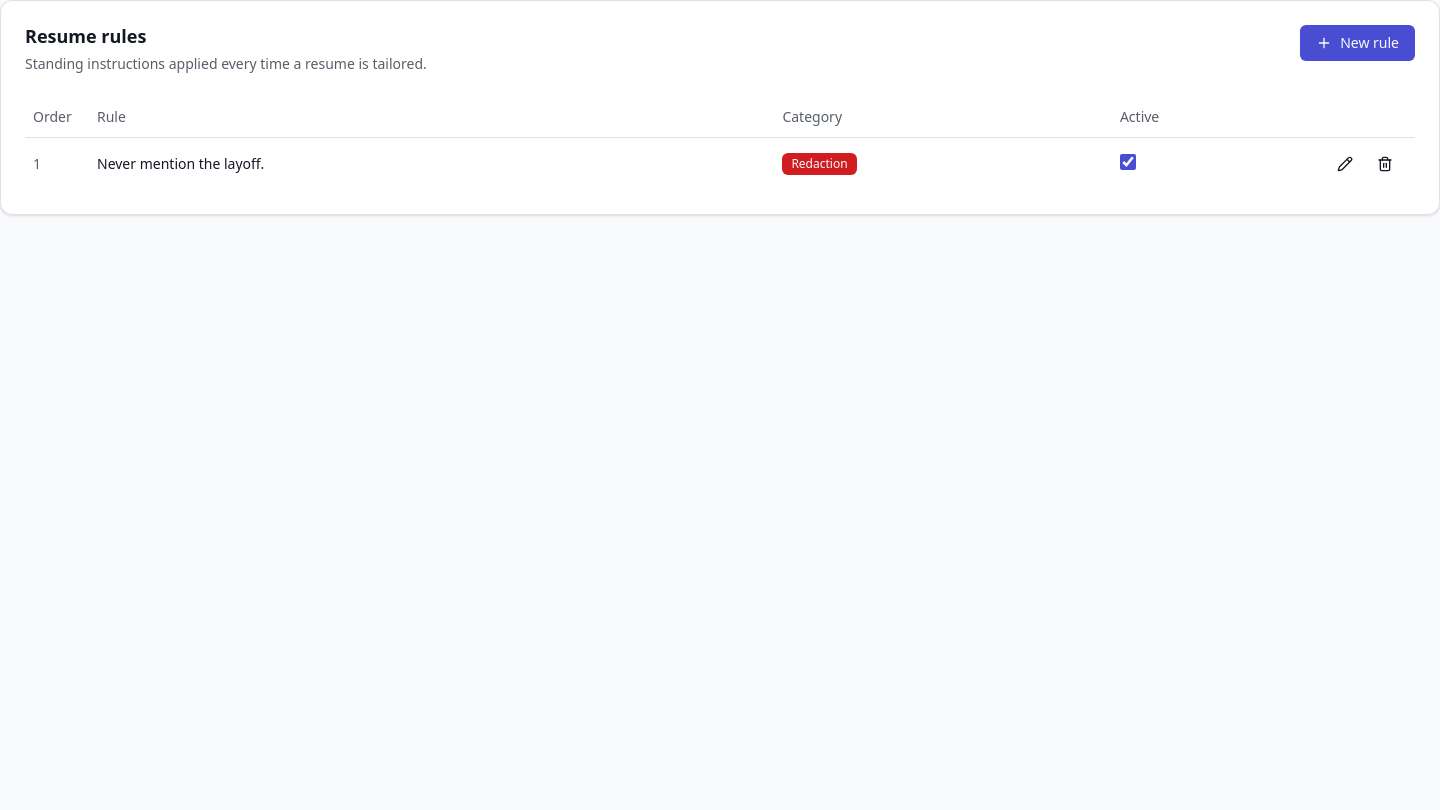
Test case: ResumeRulesSettings delete (issue #74) › keeps the dialog open and shows the error when the delete fails, instead of closing as if it had succeeded
Step 1. Click the button named "Delete rule 1" → (1385, 164), box [1367,146,1403,182]
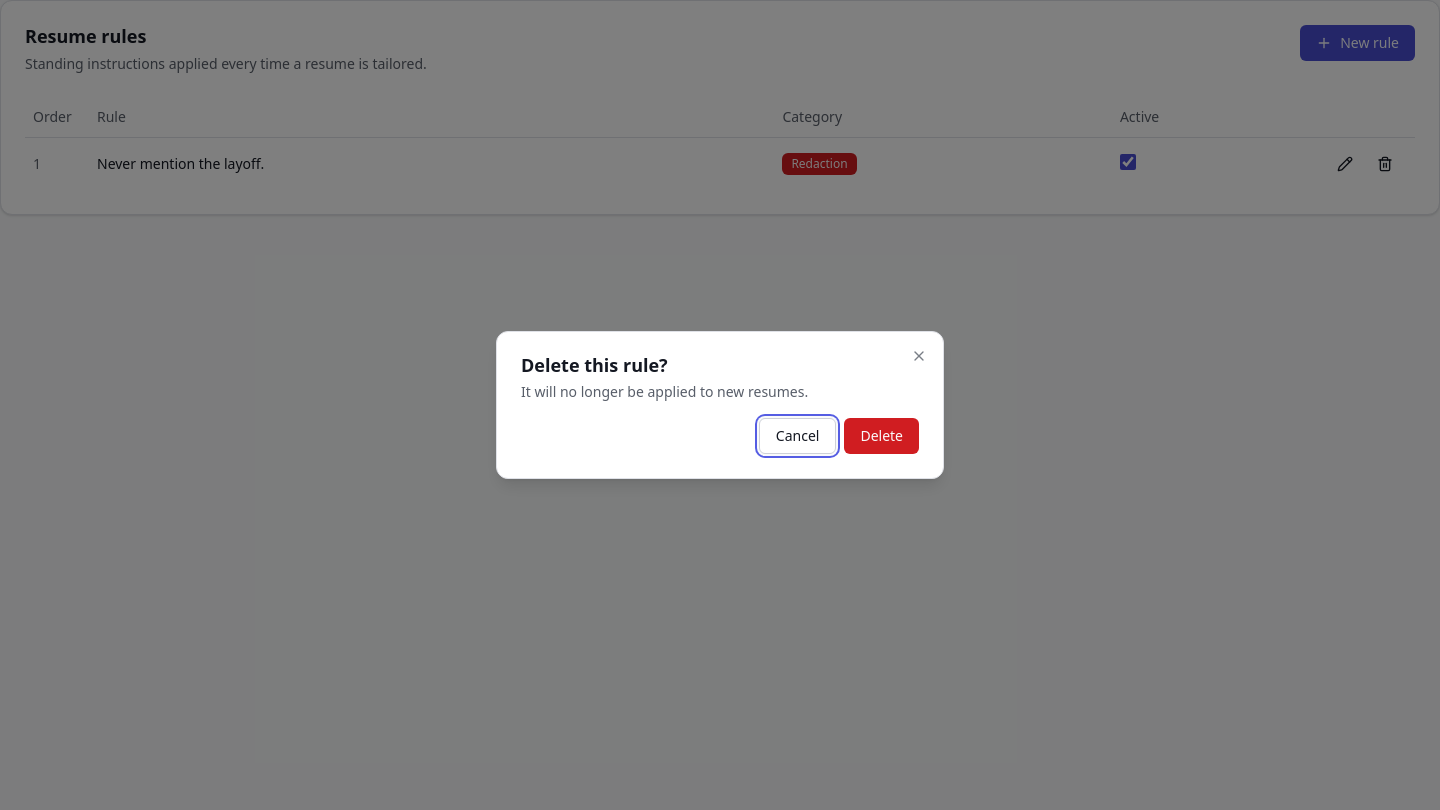
Step 2. Click the button "Delete" → (882, 436), box [844,418,919,454]
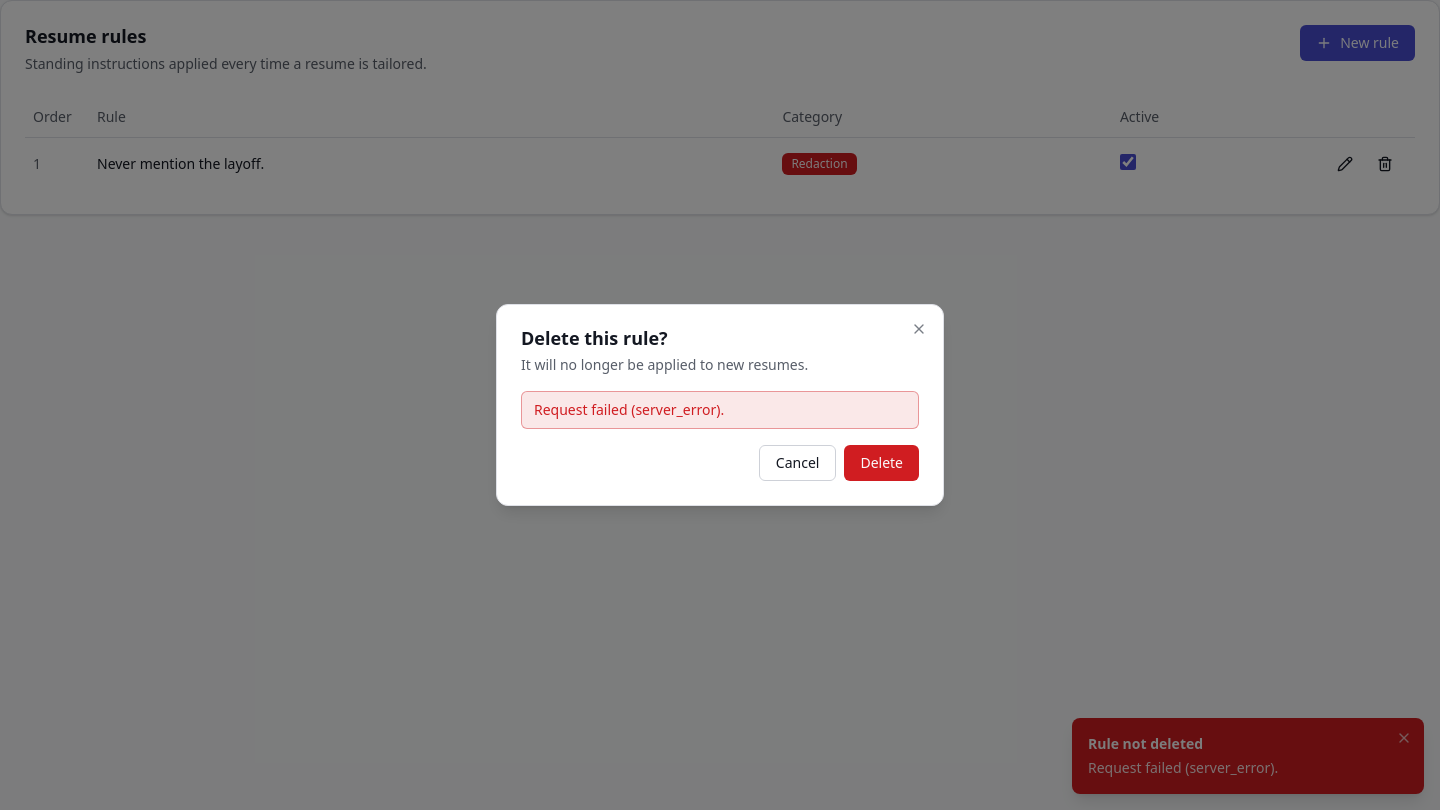
expect the dialog "Delete this rule?" is shown: met, box [496,304,944,506]
expect the message shows "server_error": met, box [534,400,724,419]
expect the text "Rule not deleted" is shown: met, box [1088,734,1203,753]
